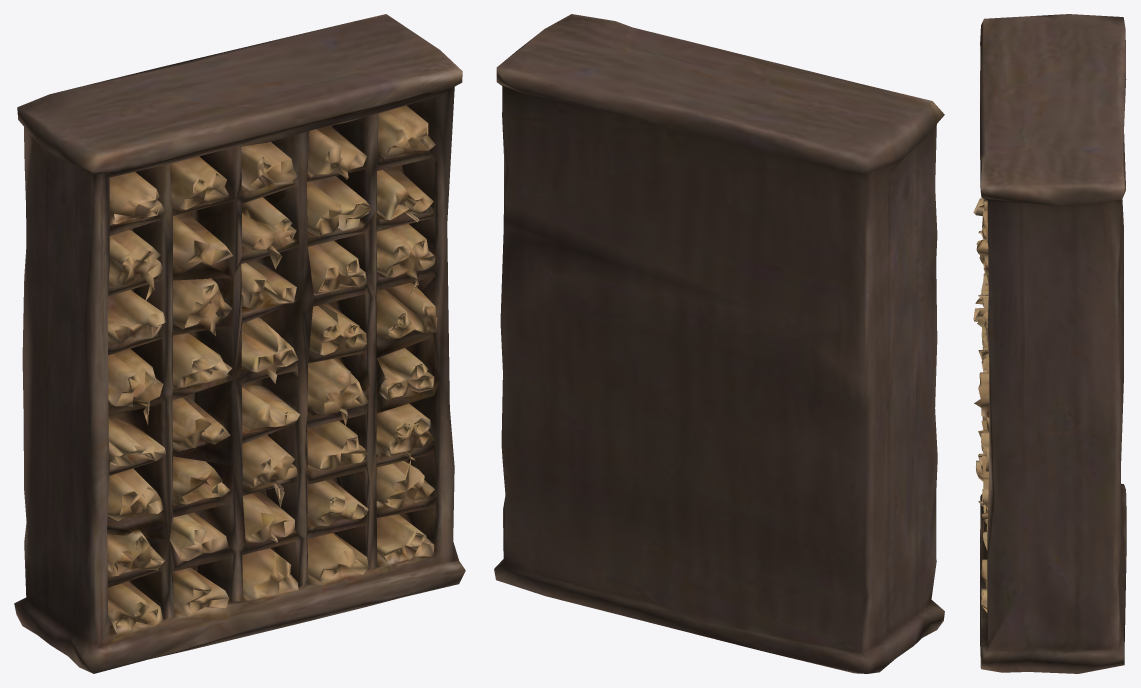
File: scroll_cabinet.glb
The picture shows the model from 3 angles, left to right: view 1: azimuth 30°, elevation 25°; view 2: azimuth 150°, elevation 25°; view 3: azimuth 270°, elevation 25°; orthographic projection. The views are drawn at different scales.
Visible parts, largest first — view 1: tripo_node_5f4304ee-461d-46e5-954b-b745420d0a56; view 2: tripo_node_5f4304ee-461d-46e5-954b-b745420d0a56; view 3: tripo_node_5f4304ee-461d-46e5-954b-b745420d0a56.
Part boxes in pixels (box(x1,y1,x2,y2)): tripo_node_5f4304ee-461d-46e5-954b-b745420d0a56: box(14, 14, 465, 673); tripo_node_5f4304ee-461d-46e5-954b-b745420d0a56: box(494, 14, 944, 673); tripo_node_5f4304ee-461d-46e5-954b-b745420d0a56: box(973, 14, 1126, 673).
Size of the model in its own units: 0.7531 by 0.9793 by 0.2777.
1 material, 1 textured.
